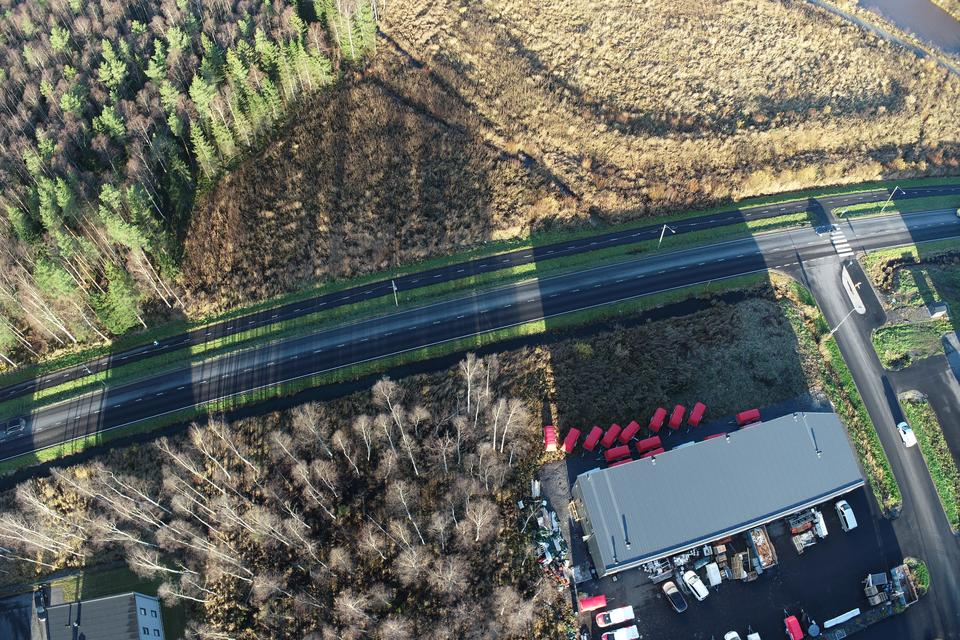intersection: (747, 185, 902, 346)
